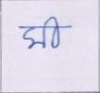i_matra: (47, 16, 60, 47)
